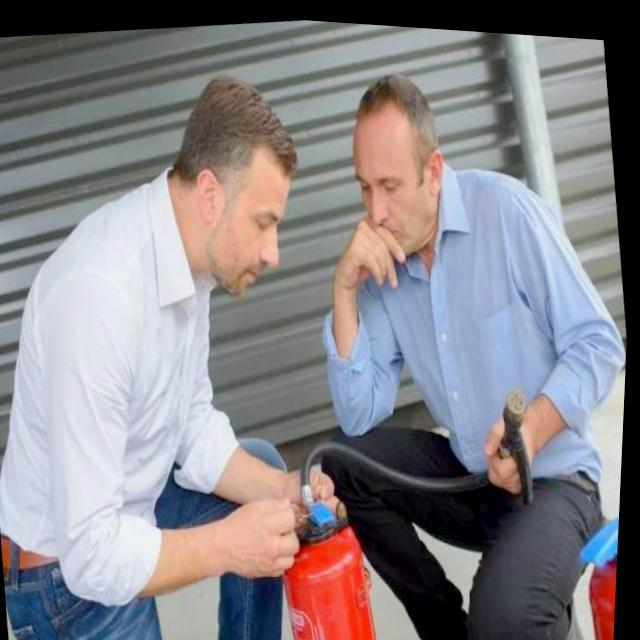FireExtinguisher: (256, 357, 567, 640), (571, 485, 624, 639)
